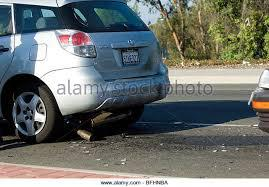rear-bumper-dent: (101, 76, 169, 108)
